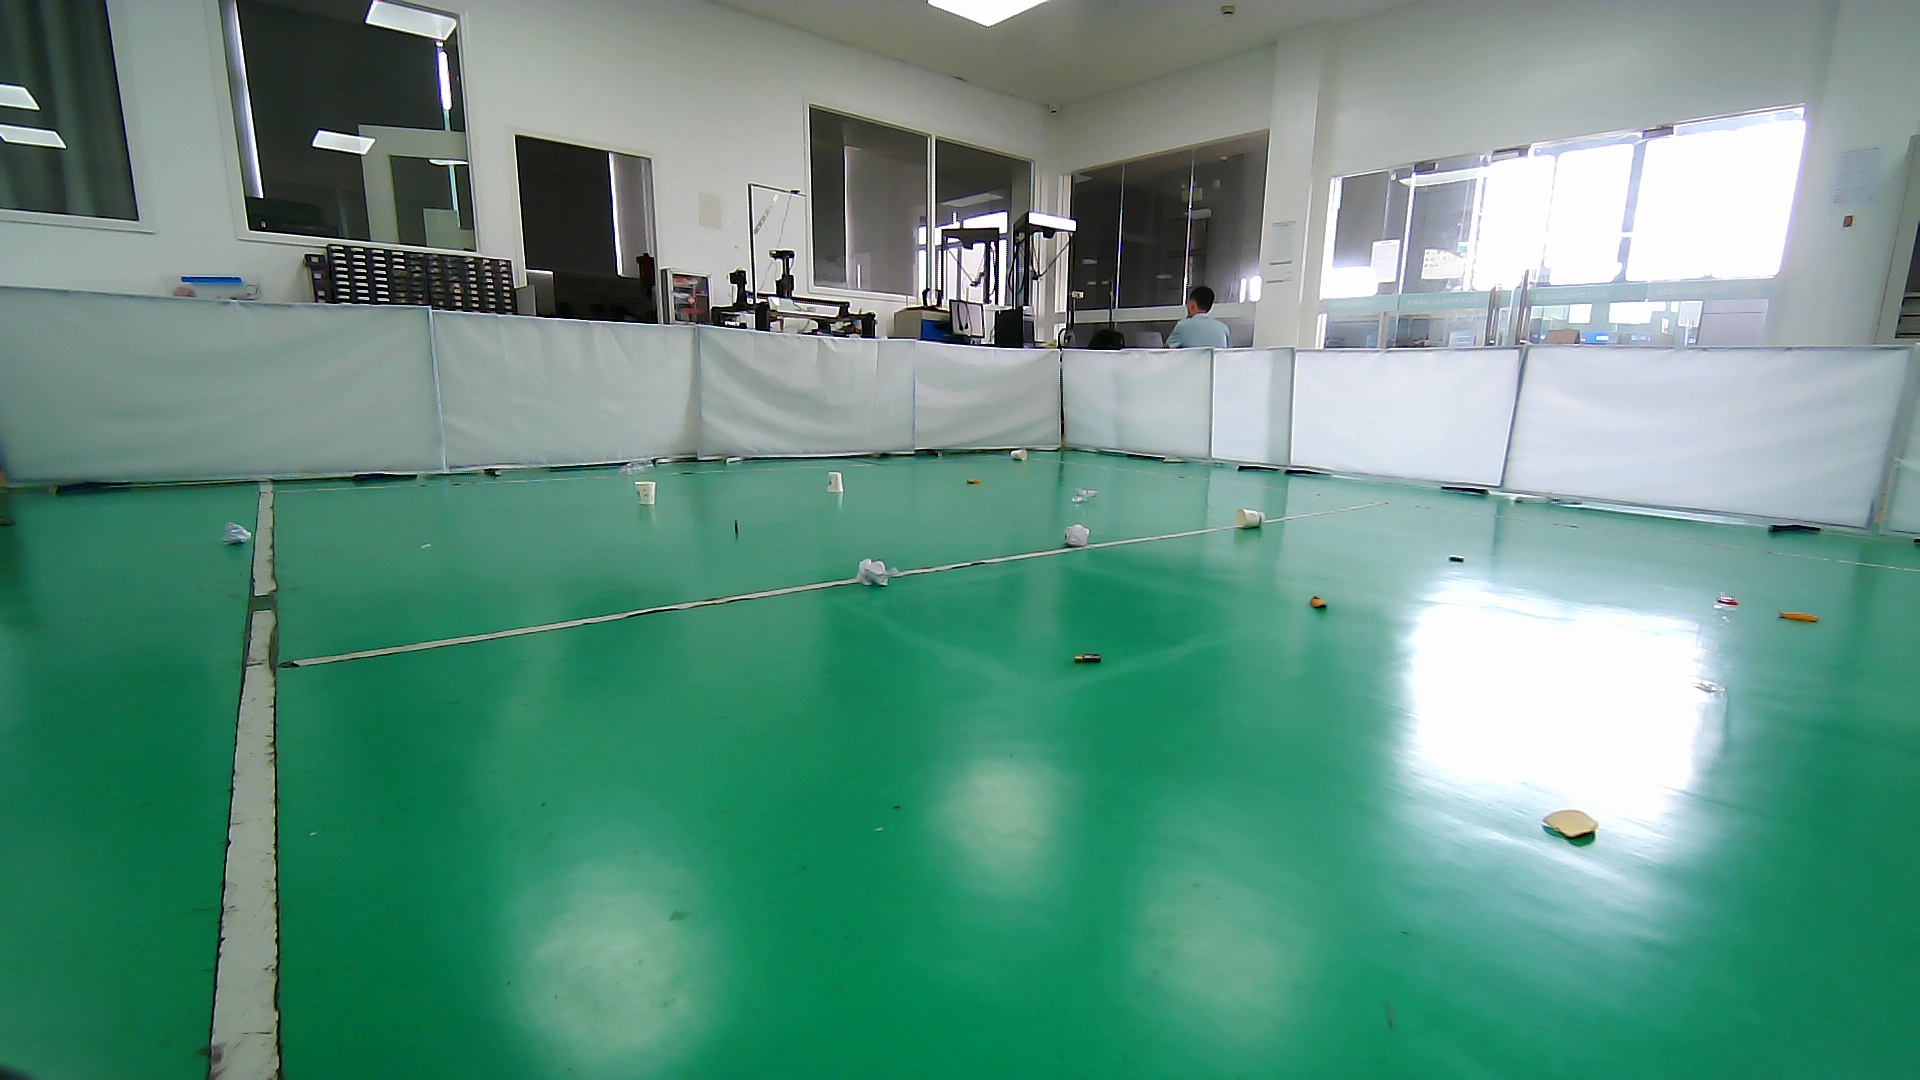battery: (1064, 645, 1108, 673), (1440, 550, 1470, 568), (727, 516, 745, 545)
bottle: (1069, 487, 1100, 505)
orangepeel: (1532, 800, 1607, 853), (1774, 604, 1825, 632), (1303, 591, 1335, 615), (963, 473, 985, 487)
papercup: (1230, 505, 1266, 531), (632, 479, 661, 506), (823, 469, 847, 496), (1010, 447, 1029, 462)
spitball: (852, 556, 891, 593), (216, 518, 255, 549), (1062, 522, 1093, 549)
